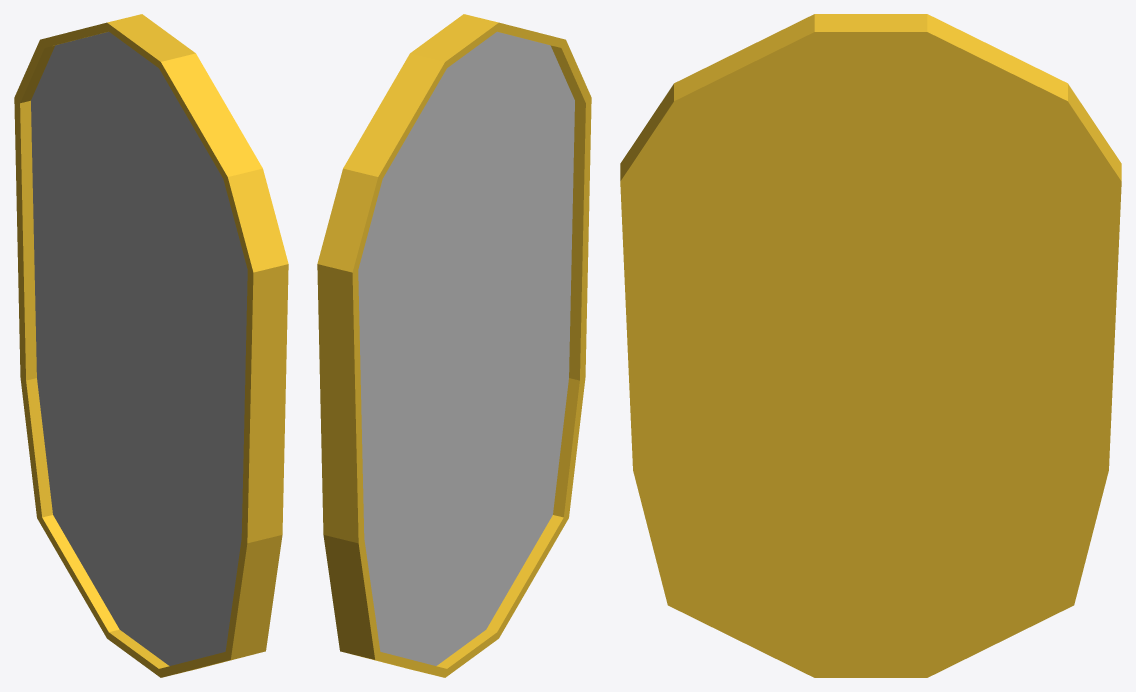
File: Miror_8.fbx
The picture shows the model from 3 angles, left to right: view 1: azimuth 30°, elevation 25°; view 2: azimuth 150°, elevation 25°; view 3: azimuth 270°, elevation 25°; orthographic projection. The views are drawn at different scales.
Visible parts, largest first — view 1: Miror_8; view 2: Miror_8; view 3: Miror_8.
Part boxes in pixels (x1,y1,x2,y2): Miror_8: (14,14,288,677); Miror_8: (317,14,591,677); Miror_8: (620,14,1121,677).
Bounding box in the file's own units: 0.0481 × 0.804 × 0.5656.
